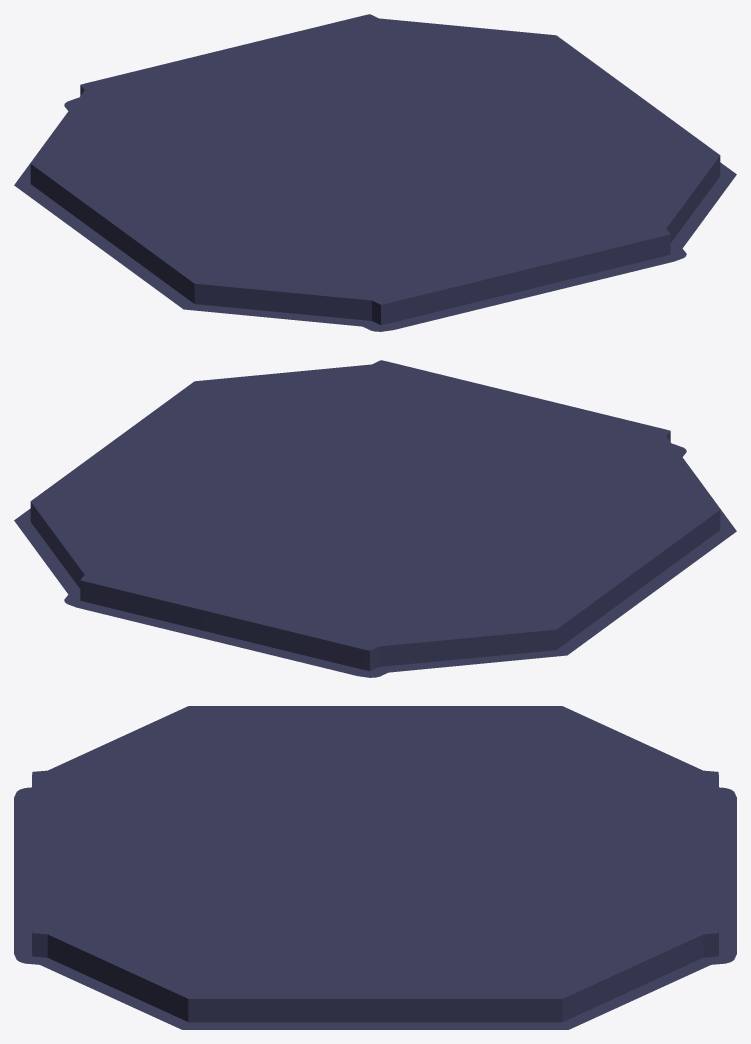
Rendered from flyypalttt22.fbx.
The picture shows the model from 3 angles, top to bottom: view 1: azimuth 30°, elevation 25°; view 2: azimuth 150°, elevation 25°; view 3: azimuth 270°, elevation 25°; orthographic projection. The views are drawn at different scales.
Visible parts, largest first — view 1: Room21_002_Cylinder_006; view 2: Room21_002_Cylinder_006; view 3: Room21_002_Cylinder_006.
Boxes of the visible parts, <box> form: Room21_002_Cylinder_006: <box>14,14,736,331</box>; Room21_002_Cylinder_006: <box>14,360,736,677</box>; Room21_002_Cylinder_006: <box>14,706,736,1029</box>.
Bounding box in the file's own units: 7.96 × 0.281 × 7.9.
